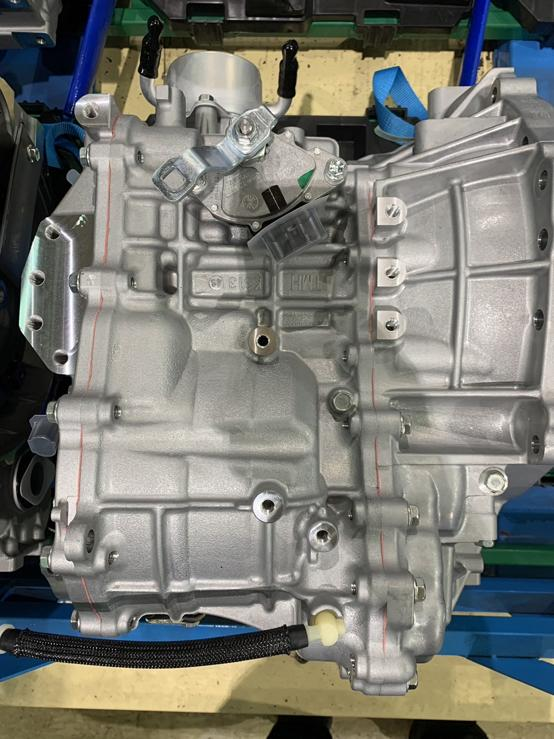gearbox_type1: (25, 82, 550, 655)
gearbox_type1_FP1: (369, 195, 411, 235), (372, 254, 406, 298), (372, 307, 410, 341)
gearbox_type1_FP2: (76, 96, 117, 132)
